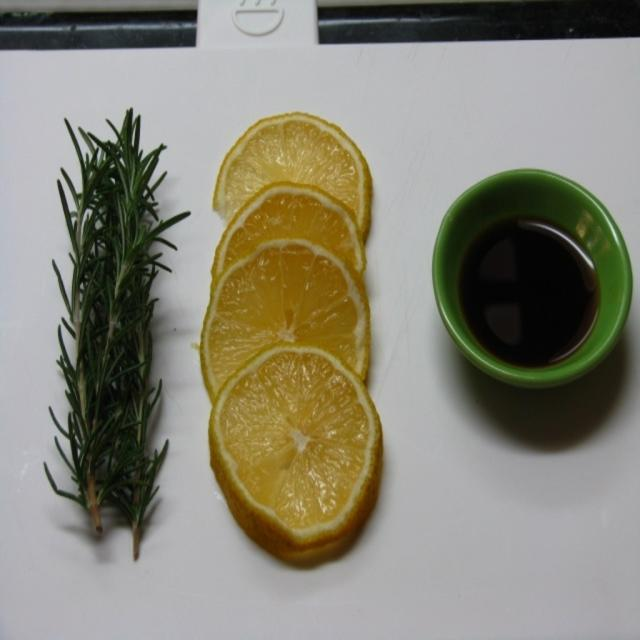Lemon: (210, 346, 384, 554), (202, 237, 371, 395), (216, 113, 372, 228), (210, 182, 364, 286)
